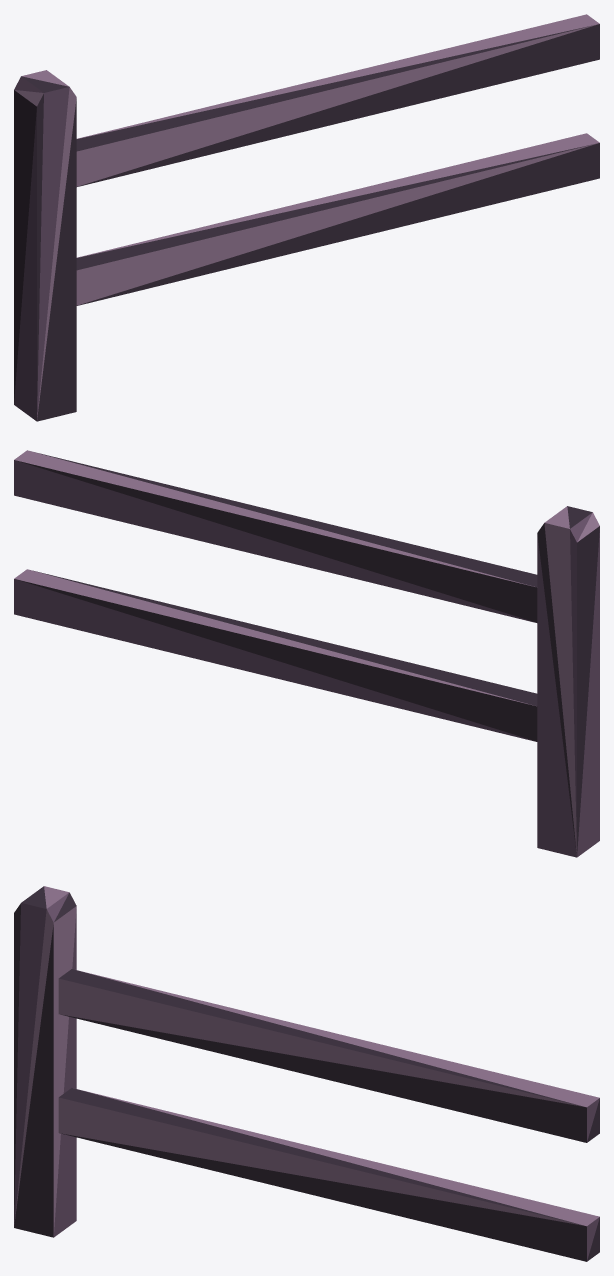
The model's file is TW_WOOD_RAIL_2M_A_LOD0.glb.
3 renders of one model, top to bottom at view 1: azimuth 30°, elevation 25°; view 2: azimuth 150°, elevation 25°; view 3: azimuth 330°, elevation 25°, orthographic.
Visible parts, largest first — view 1: TW_WOOD_RAIL_2M_A_LOD0; view 2: TW_WOOD_RAIL_2M_A_LOD0; view 3: TW_WOOD_RAIL_2M_A_LOD0.
Boxes of the visible parts, bbox=[...] form: TW_WOOD_RAIL_2M_A_LOD0: bbox=[14, 14, 599, 421]; TW_WOOD_RAIL_2M_A_LOD0: bbox=[14, 450, 599, 857]; TW_WOOD_RAIL_2M_A_LOD0: bbox=[14, 886, 599, 1261].
Size of the model in its own units: 2 by 1.1 by 0.14.
1 material, 1 textured.
